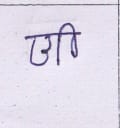i_matra: (62, 22, 79, 58)
